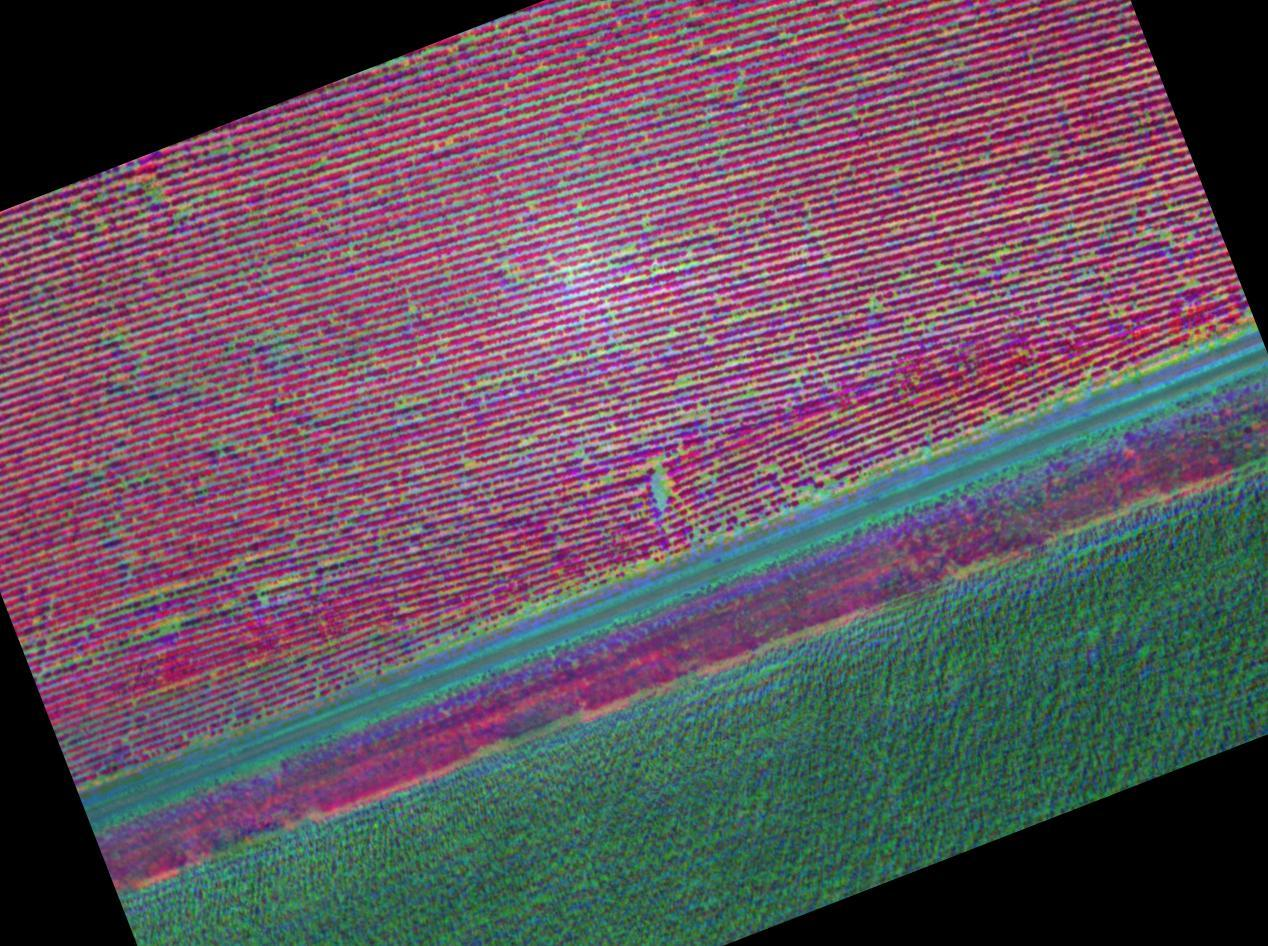dc: (1162, 232, 1167, 237), (669, 332, 674, 337), (655, 478, 660, 483), (829, 481, 834, 486), (656, 493, 662, 497), (771, 465, 775, 470), (163, 628, 167, 633), (982, 271, 985, 274), (465, 460, 467, 463)
